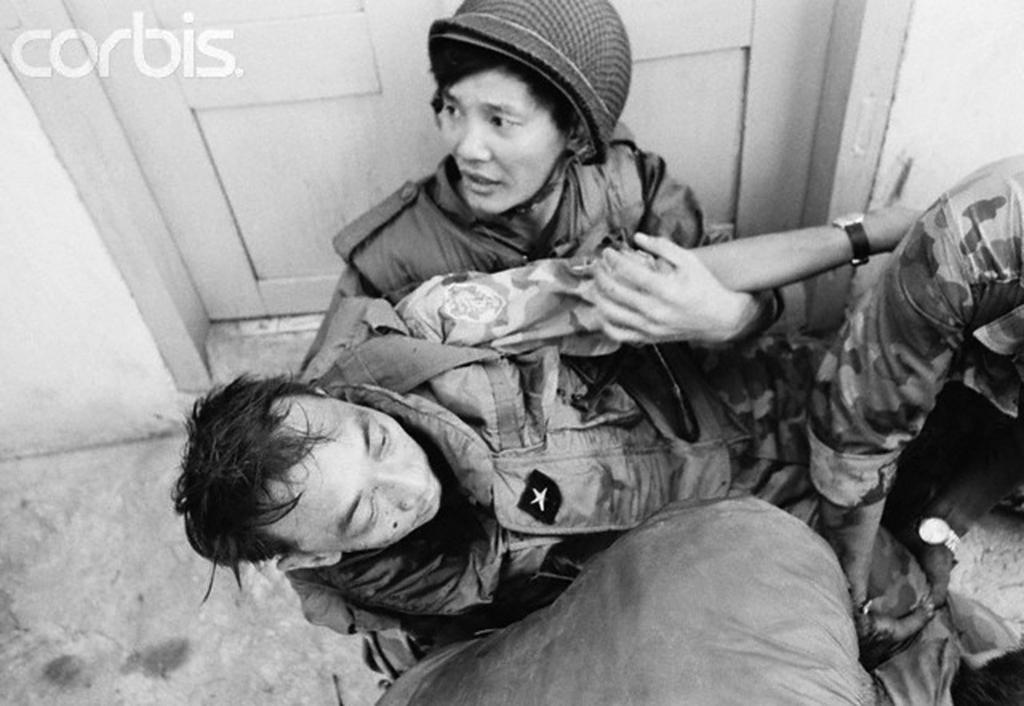Hat: (424, 0, 630, 172)
